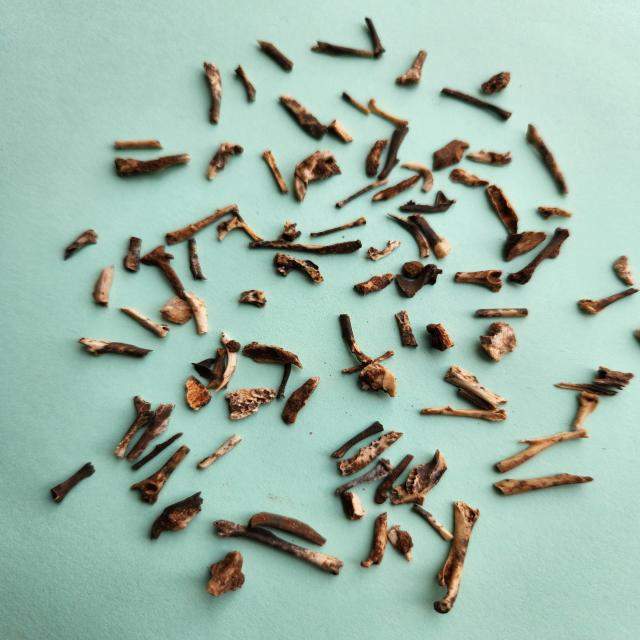fossil: (210, 516, 349, 579), (428, 498, 484, 619), (490, 426, 594, 474), (504, 226, 574, 288), (128, 442, 195, 506), (389, 446, 452, 508), (330, 429, 406, 480), (124, 397, 181, 464), (522, 121, 572, 197), (164, 200, 242, 248), (489, 468, 598, 501), (144, 488, 208, 544), (440, 363, 511, 411), (291, 145, 345, 204), (136, 242, 192, 298), (246, 510, 329, 547), (437, 86, 517, 124), (112, 392, 156, 460), (274, 374, 326, 428), (44, 459, 100, 509), (128, 428, 190, 473), (110, 149, 196, 181), (332, 456, 399, 497), (276, 93, 332, 142), (329, 310, 377, 367), (378, 209, 431, 260), (404, 211, 455, 262), (329, 418, 388, 462), (371, 450, 417, 506), (375, 124, 415, 183), (202, 549, 249, 598), (418, 401, 512, 425), (482, 182, 522, 238), (474, 319, 522, 365), (245, 238, 366, 256), (194, 431, 247, 472), (212, 326, 243, 396), (74, 335, 157, 361), (573, 286, 640, 318), (330, 177, 393, 211), (393, 262, 446, 302), (359, 509, 392, 572), (202, 140, 248, 185), (223, 385, 277, 423), (197, 58, 226, 128), (408, 501, 456, 543), (270, 253, 331, 286), (238, 340, 304, 370), (119, 305, 174, 340), (257, 146, 294, 198), (338, 347, 396, 379), (253, 36, 299, 76), (211, 211, 266, 244), (181, 288, 217, 337), (356, 362, 400, 402), (430, 135, 474, 175), (305, 213, 370, 240), (393, 189, 460, 215), (500, 228, 548, 264), (308, 38, 380, 62), (369, 173, 426, 203), (364, 97, 415, 130), (59, 226, 102, 264), (447, 267, 507, 294), (176, 373, 216, 413), (550, 376, 622, 398), (88, 262, 120, 310), (349, 270, 399, 300), (396, 46, 430, 90), (587, 362, 636, 392), (568, 390, 601, 434), (362, 10, 390, 61), (384, 524, 418, 564), (456, 147, 517, 169), (422, 316, 458, 353), (157, 292, 195, 327), (390, 306, 420, 350), (184, 237, 212, 284), (452, 385, 496, 414), (233, 62, 262, 106), (445, 165, 494, 190), (362, 137, 391, 179), (106, 135, 170, 154), (467, 302, 534, 320), (205, 344, 230, 392), (400, 162, 436, 194), (271, 356, 297, 400), (122, 232, 148, 276), (476, 67, 514, 96), (337, 488, 368, 523), (361, 238, 402, 263), (610, 253, 640, 287), (338, 90, 374, 118), (324, 118, 357, 146), (188, 356, 223, 381), (236, 288, 271, 312), (533, 204, 577, 222), (274, 219, 306, 243), (400, 256, 426, 280)
